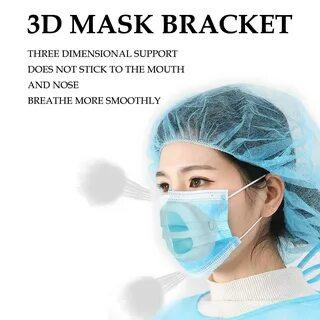hairnet: (137, 70, 320, 281)
mask: (154, 176, 252, 314)
